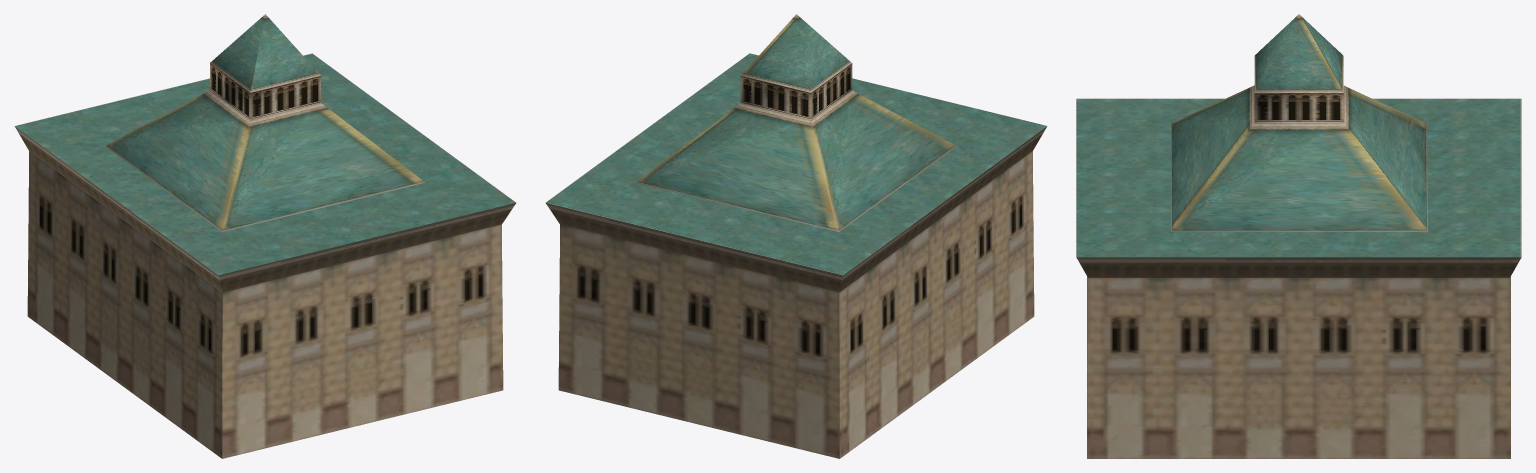
Rendered from thm_nboo_thed_imprv_building_s05_l3.fbx.
The picture shows the model from 3 angles, left to right: view 1: azimuth 30°, elevation 25°; view 2: azimuth 150°, elevation 25°; view 3: azimuth 270°, elevation 25°; orthographic projection. The views are drawn at different scales.
Visible parts, largest first — view 1: mesh_node; view 2: mesh_node; view 3: mesh_node.
Boxes of the visible parts, x1,y1,x2,y2 form: mesh_node: (14,14,516,458); mesh_node: (545,14,1047,458); mesh_node: (1076,14,1521,458).
Bounding box in the file's own units: 24 × 26.14 × 28.5.
